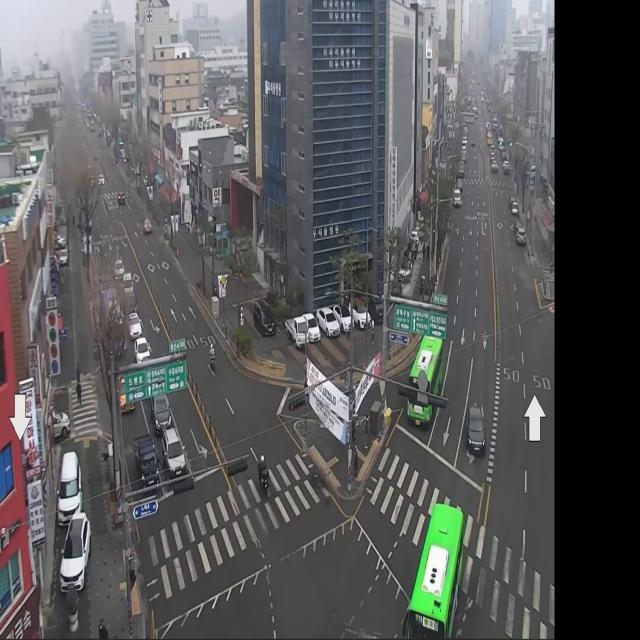bus: (258, 454, 270, 498), (208, 343, 216, 374)
car: (407, 499, 465, 640), (408, 330, 443, 427), (102, 291, 123, 353)
motorcycle: (59, 513, 91, 594), (58, 454, 82, 518), (464, 398, 487, 462), (162, 429, 186, 479), (149, 388, 172, 428), (252, 300, 276, 338), (349, 295, 373, 329), (284, 316, 308, 349), (116, 372, 136, 411), (317, 307, 341, 339), (333, 303, 355, 333), (303, 312, 321, 342), (368, 296, 388, 322), (134, 337, 150, 361), (128, 313, 142, 339), (124, 293, 138, 312), (123, 270, 133, 292), (114, 259, 125, 279), (516, 228, 526, 245), (143, 218, 152, 236), (116, 190, 125, 207), (454, 189, 461, 208), (511, 202, 519, 216), (491, 160, 499, 174), (514, 220, 523, 232), (456, 178, 463, 192), (503, 161, 510, 175), (509, 196, 516, 207), (458, 166, 464, 178)
truck: (133, 438, 159, 486)
